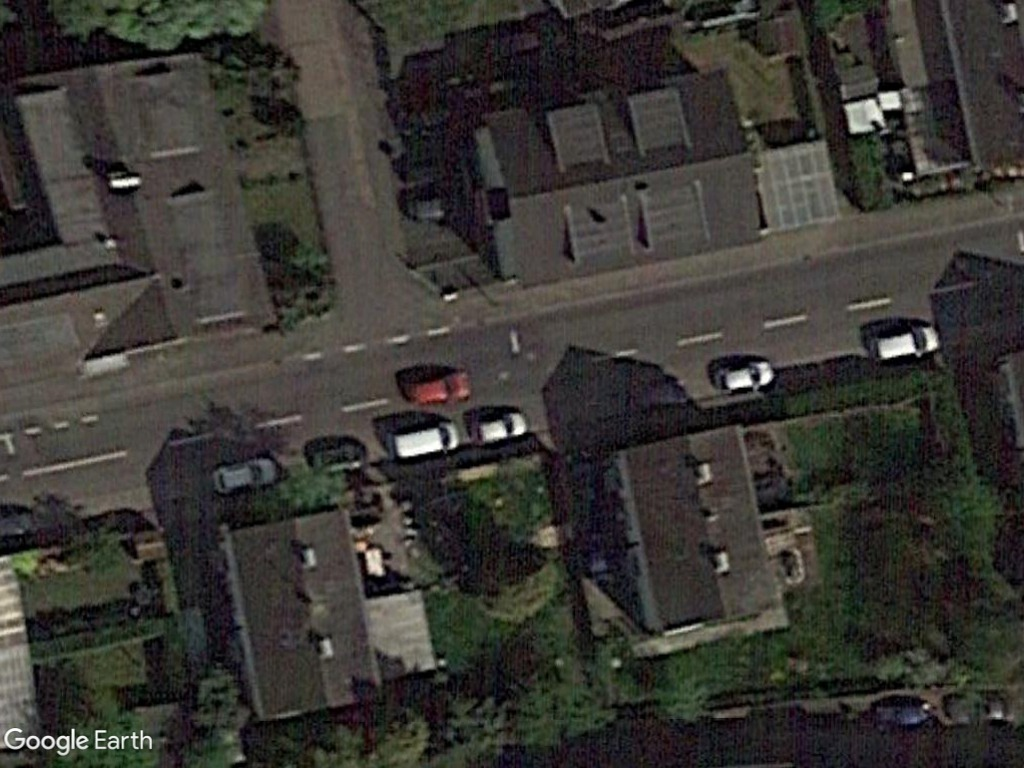car: (208, 445, 282, 497), (396, 362, 481, 406), (712, 351, 779, 395), (470, 406, 534, 446)
van: (388, 416, 469, 470), (865, 318, 946, 363)
